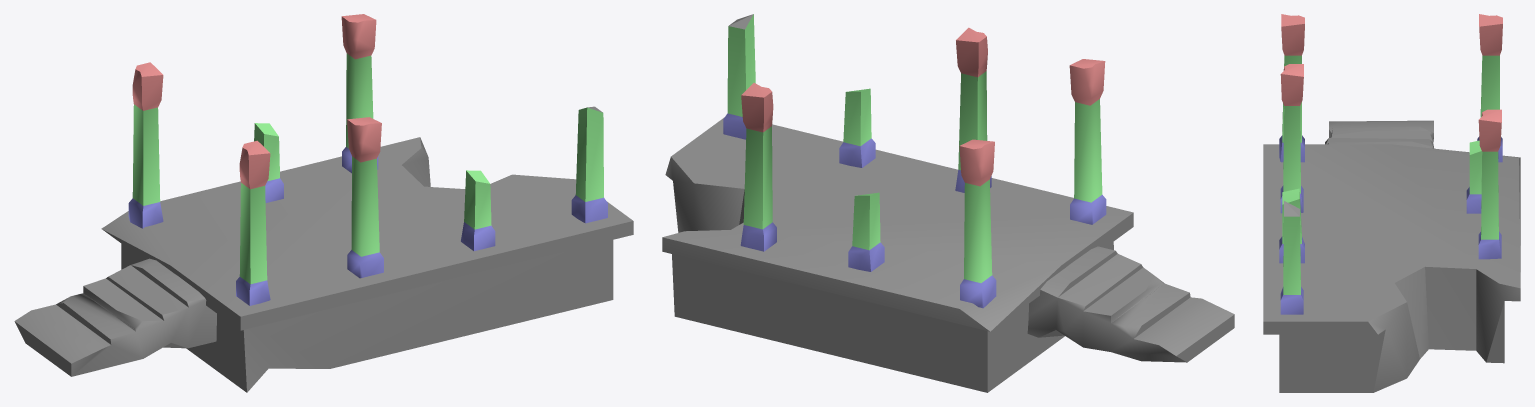
Rendered from world_obj06.gltf.
The picture shows the model from 3 angles, left to right: view 1: azimuth 30°, elevation 25°; view 2: azimuth 150°, elevation 25°; view 3: azimuth 270°, elevation 25°; orthographic projection. The views are drawn at different scales.
Visible parts, largest first — view 1: world_obj06; view 2: world_obj06; view 3: world_obj06.
Boxes of the visible parts, left/top/right/bottom form: world_obj06: left=14, top=14, right=633, bottom=392; world_obj06: left=662, top=14, right=1234, bottom=392; world_obj06: left=1263, top=14, right=1520, bottom=392.
Size of the model in its own units: 5.17 by 2.18 by 2.37.
